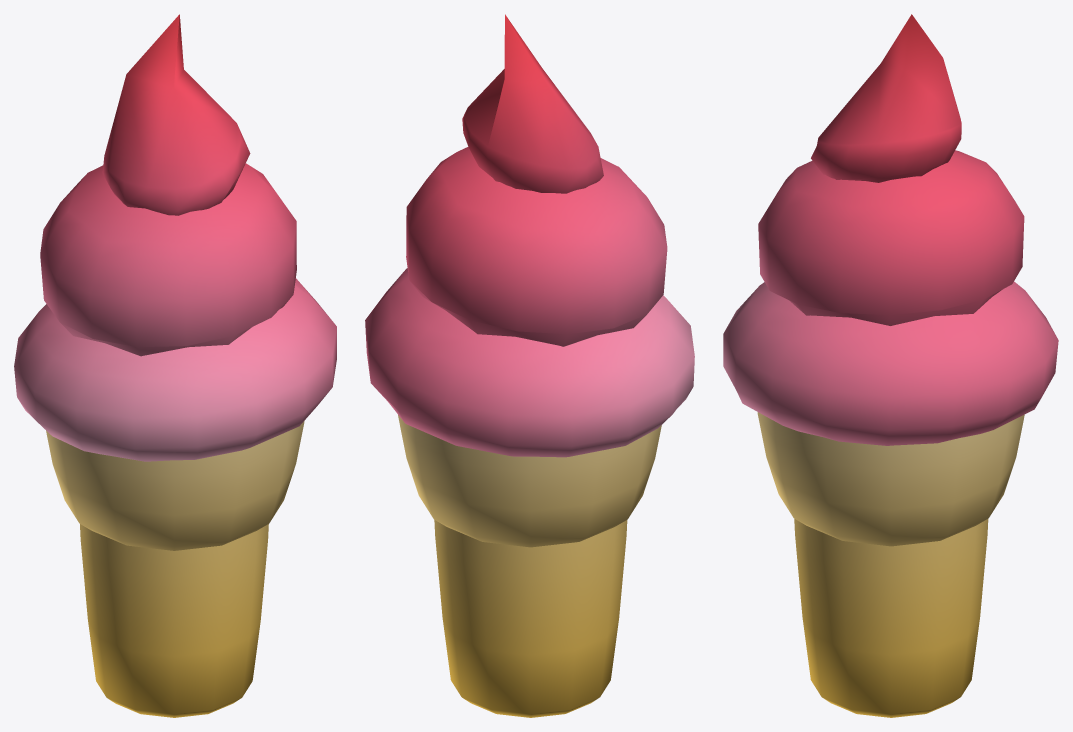
The model's file is ice_cream_001.fbx.
The picture shows the model from 3 angles, left to right: view 1: azimuth 30°, elevation 25°; view 2: azimuth 150°, elevation 25°; view 3: azimuth 270°, elevation 25°; orthographic projection. The views are drawn at different scales.
Parts seen in each view (by area): view 1: ice_cream_001; view 2: ice_cream_001; view 3: ice_cream_001.
Part boxes in pixels (bbox=[...]): ice_cream_001: bbox=[14, 14, 336, 717]; ice_cream_001: bbox=[365, 14, 694, 717]; ice_cream_001: bbox=[723, 14, 1058, 717].
Size of the model in its own units: 7.18 by 7.21 by 16.18.
